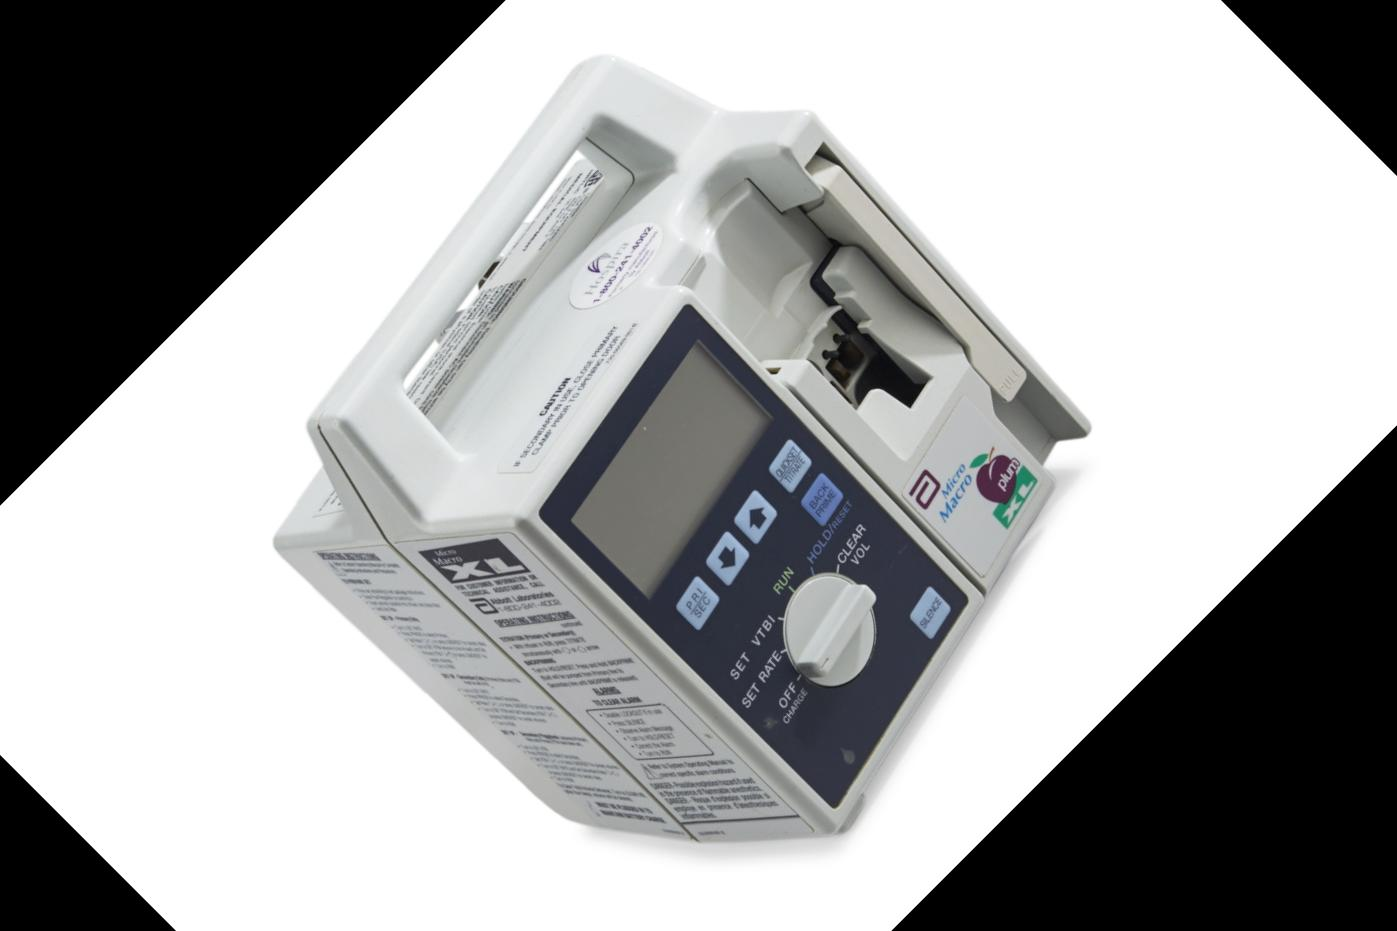plumxl1: (293, 56, 1086, 834)
